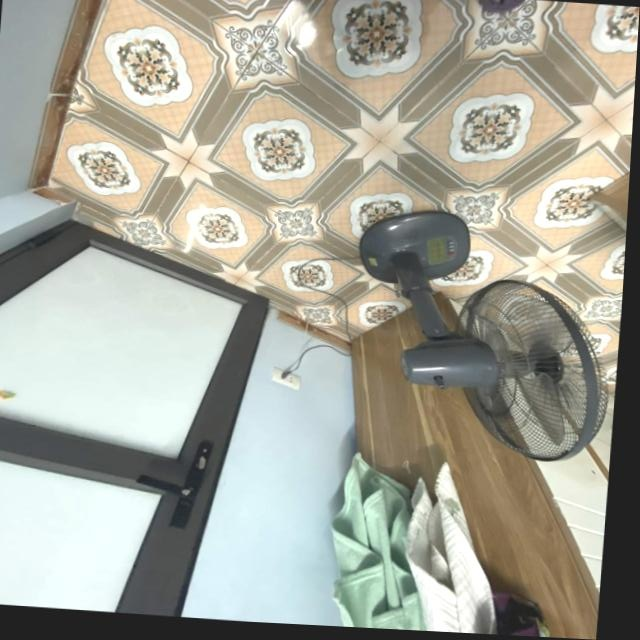outlet: (271, 365, 302, 390)
